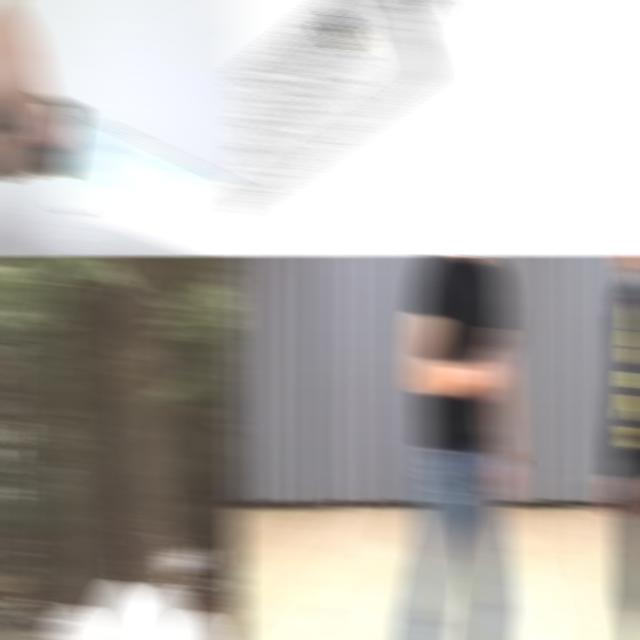Knife: (230, 0, 436, 213), (32, 90, 242, 256)
Knife_Handle: (462, 304, 520, 390)
